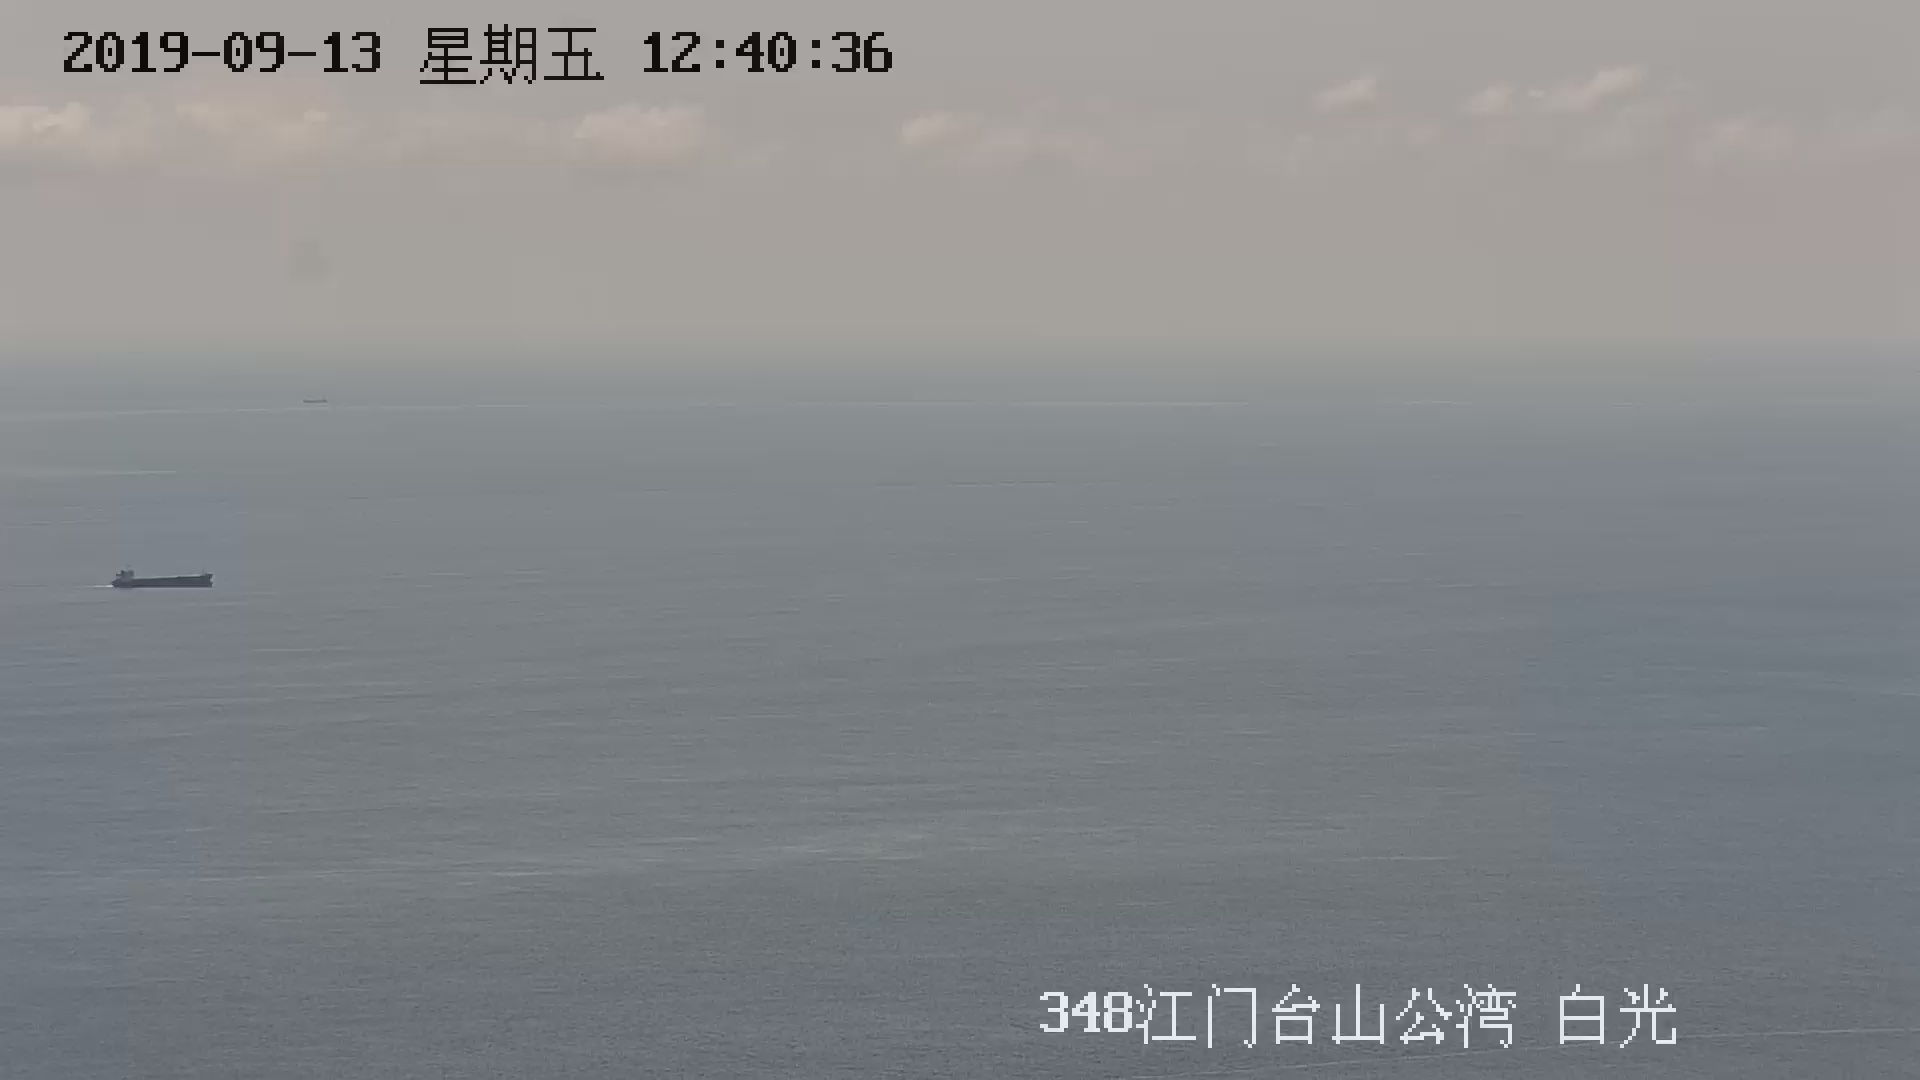ship: (113, 568, 214, 592)
